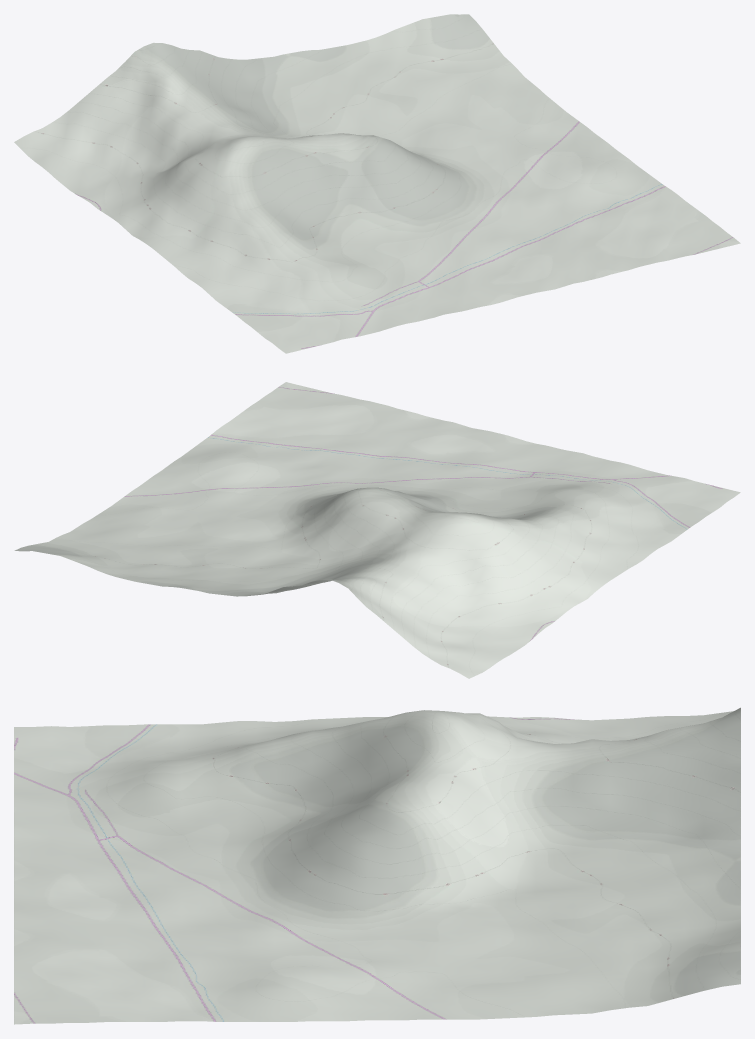
The model's file is C1351_NASADEM_OsmThunderForest-Landscape.glb.
3 renders of one model, top to bottom at view 1: azimuth 30°, elevation 25°; view 2: azimuth 150°, elevation 25°; view 3: azimuth 270°, elevation 25°, orthographic. The views are drawn at different scales.
Visible parts, largest first — view 1: TerrainNode; view 2: TerrainNode; view 3: TerrainNode.
Part boxes in pixels (x1,y1,x2,y2): TerrainNode: (14, 14, 740, 353); TerrainNode: (14, 382, 740, 678); TerrainNode: (14, 707, 740, 1024).
Size of the model in its own units: 1515 by 252 by 1569.
Materials: 1 (1 with a texture image).
